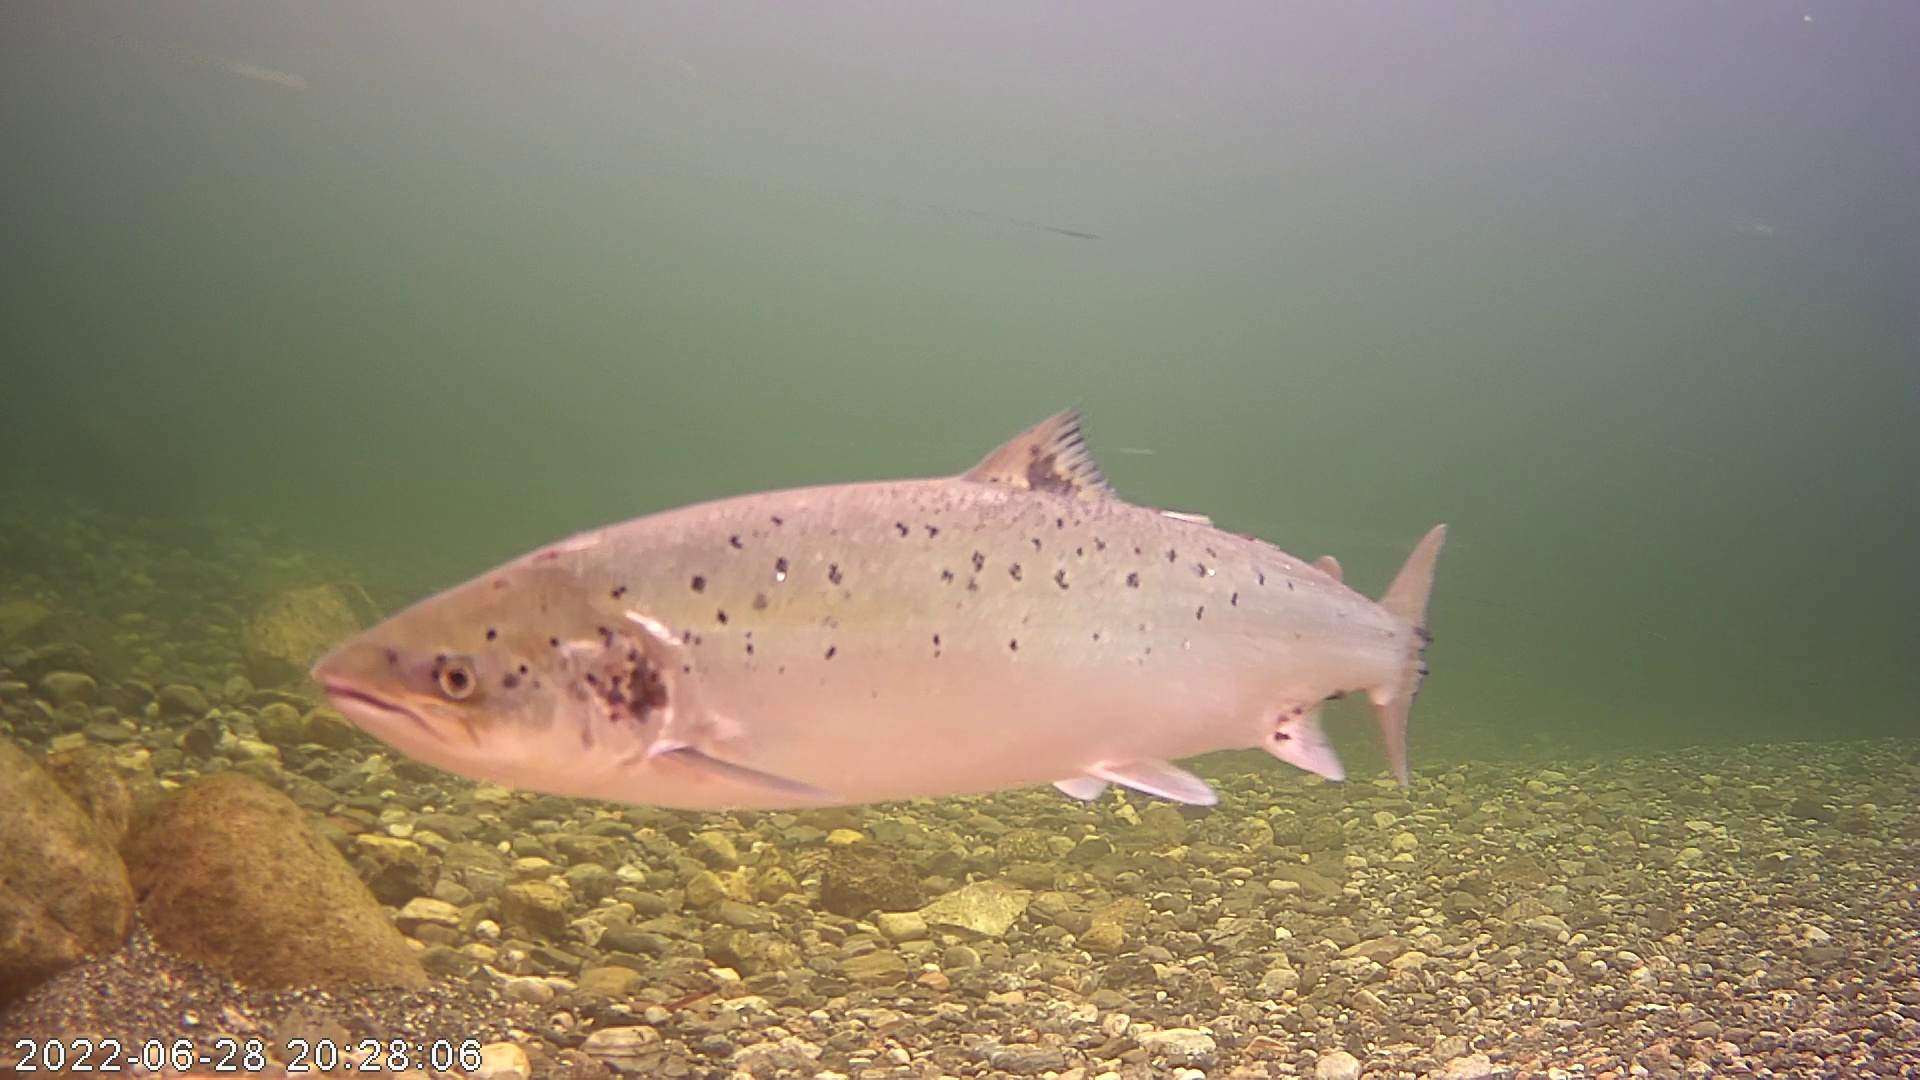salmon: (303, 396, 1458, 822)
